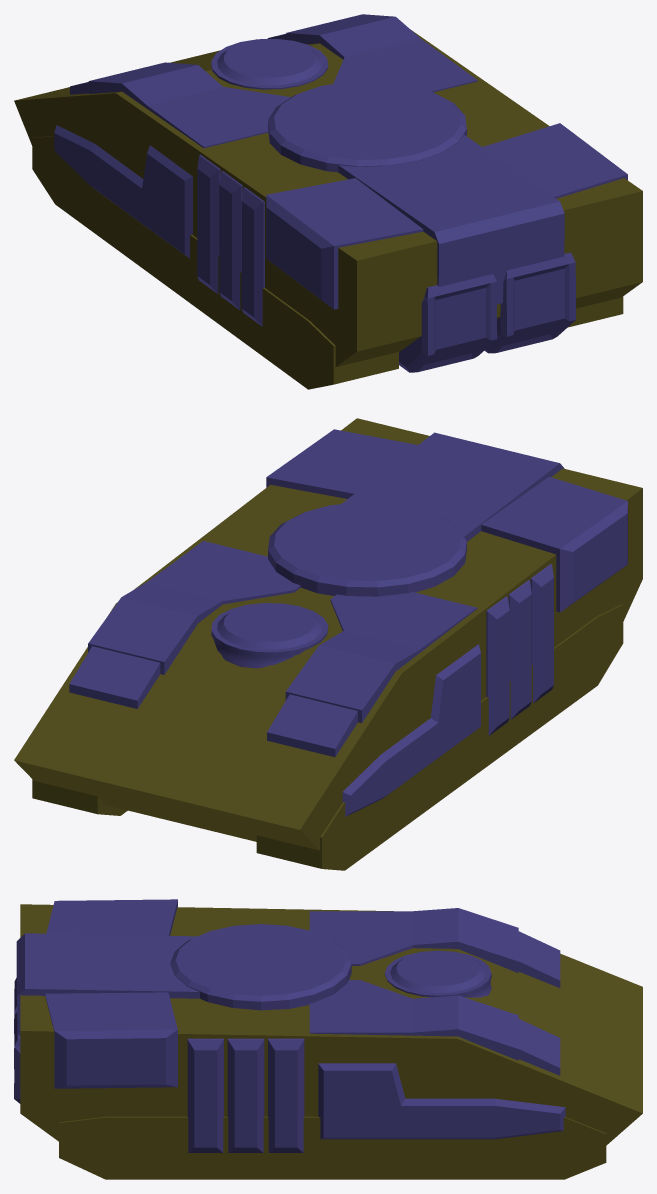
File: Scorpion.fbx
3 views of the same model, one above another, from view 1: azimuth 30°, elevation 25°; view 2: azimuth 150°, elevation 25°; view 3: azimuth 270°, elevation 25° (orthographic). The views are drawn at different scales.
Visible parts, largest first — view 1: Parts, Body; view 2: Parts, Body; view 3: Parts, Body.
Boxes of the visible parts, x1,y1,x2,y2 form: Parts: [54, 14, 627, 372]; Body: [14, 30, 642, 389]; Parts: [69, 429, 627, 816]; Body: [14, 418, 642, 870]; Parts: [14, 899, 565, 1152]; Body: [20, 904, 642, 1179].
Size of the model in its own units: 417 by 223 by 817.
